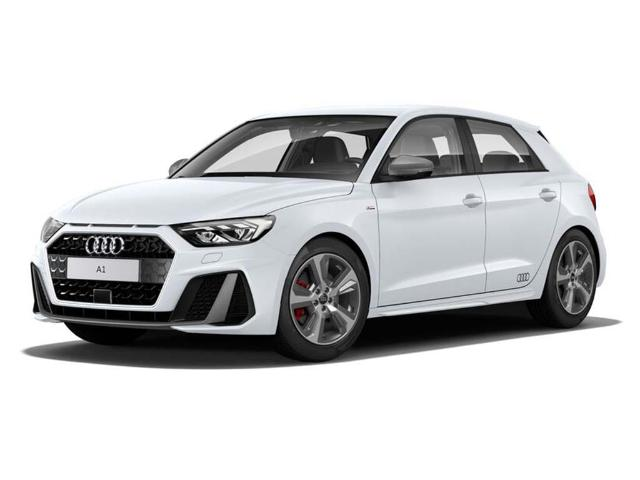audi: (29, 104, 608, 364)
